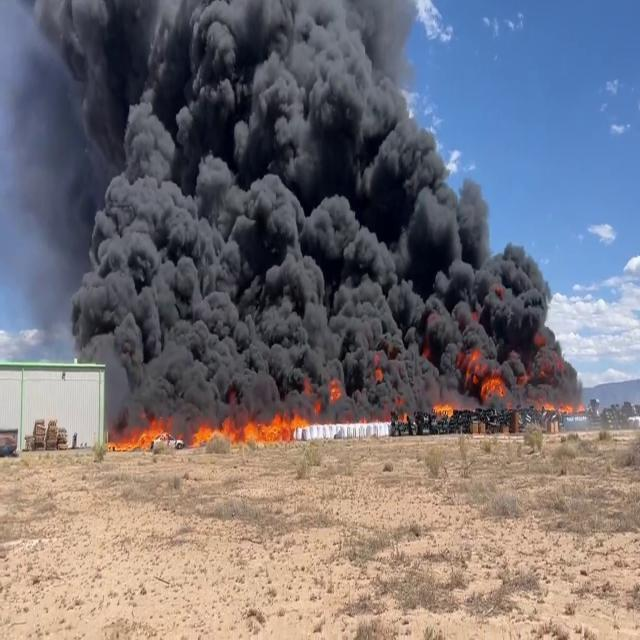Fire: (190, 405, 320, 448), (106, 412, 172, 450)
Smoke: (9, 0, 570, 397)
